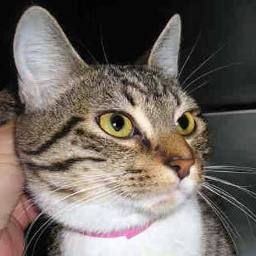cat: (2, 4, 235, 256)
